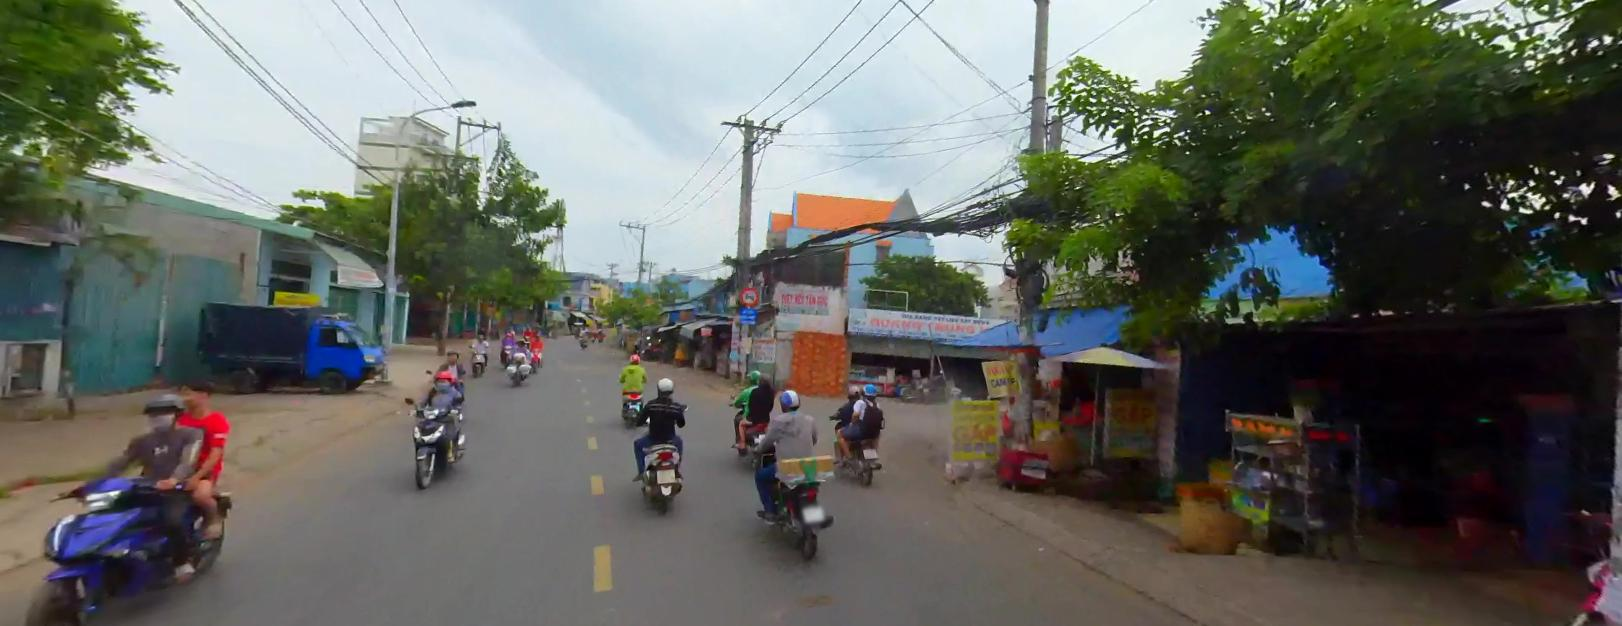Cam con lai: (739, 285, 759, 304)
